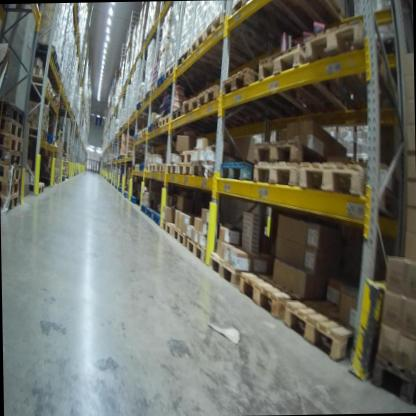pallet: (301, 12, 399, 128), (256, 45, 350, 121), (298, 152, 405, 217), (282, 291, 366, 363), (219, 62, 293, 125), (233, 0, 342, 41), (237, 268, 313, 318), (189, 28, 268, 69), (202, 10, 270, 57), (369, 352, 416, 408), (250, 139, 325, 172), (207, 250, 267, 291), (196, 81, 243, 129), (251, 154, 300, 191), (175, 49, 227, 79), (185, 234, 212, 266), (217, 159, 253, 181), (0, 99, 27, 127), (0, 114, 24, 142), (190, 158, 218, 180), (0, 159, 23, 184), (29, 76, 54, 97), (164, 64, 186, 87), (0, 131, 23, 153), (180, 92, 198, 119), (0, 145, 22, 167), (155, 72, 176, 94), (0, 176, 22, 197), (25, 124, 47, 144), (36, 41, 57, 60), (171, 224, 188, 246), (25, 178, 44, 197), (1, 193, 20, 211), (176, 146, 196, 163), (175, 160, 194, 176), (161, 218, 178, 235), (171, 107, 183, 124), (151, 115, 162, 133), (161, 112, 171, 130), (165, 160, 176, 176), (44, 60, 59, 71), (152, 210, 162, 226), (146, 205, 156, 220), (45, 132, 53, 146), (51, 89, 58, 105), (156, 162, 165, 173), (148, 161, 156, 173), (150, 83, 158, 95), (136, 130, 146, 139), (140, 205, 148, 216), (138, 161, 144, 174), (141, 125, 147, 137), (145, 89, 151, 101), (134, 163, 140, 173), (147, 123, 152, 134), (56, 97, 61, 107), (144, 161, 148, 172), (132, 134, 138, 141)
